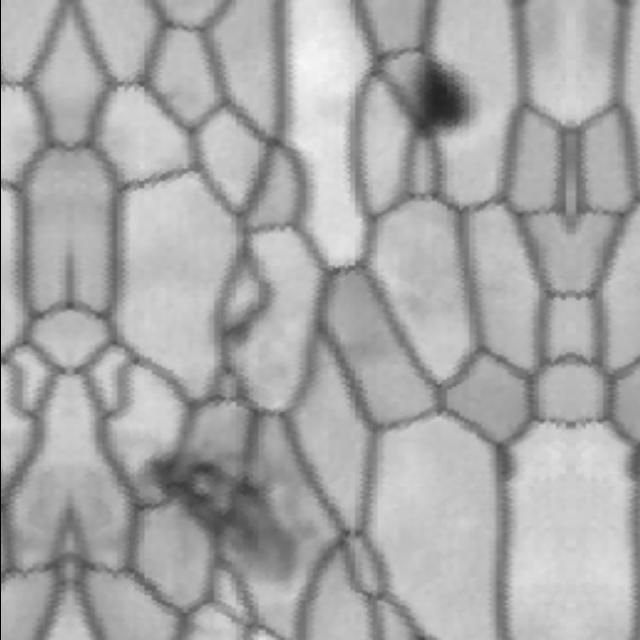good_void: (135, 413, 317, 610), (406, 47, 484, 147)
